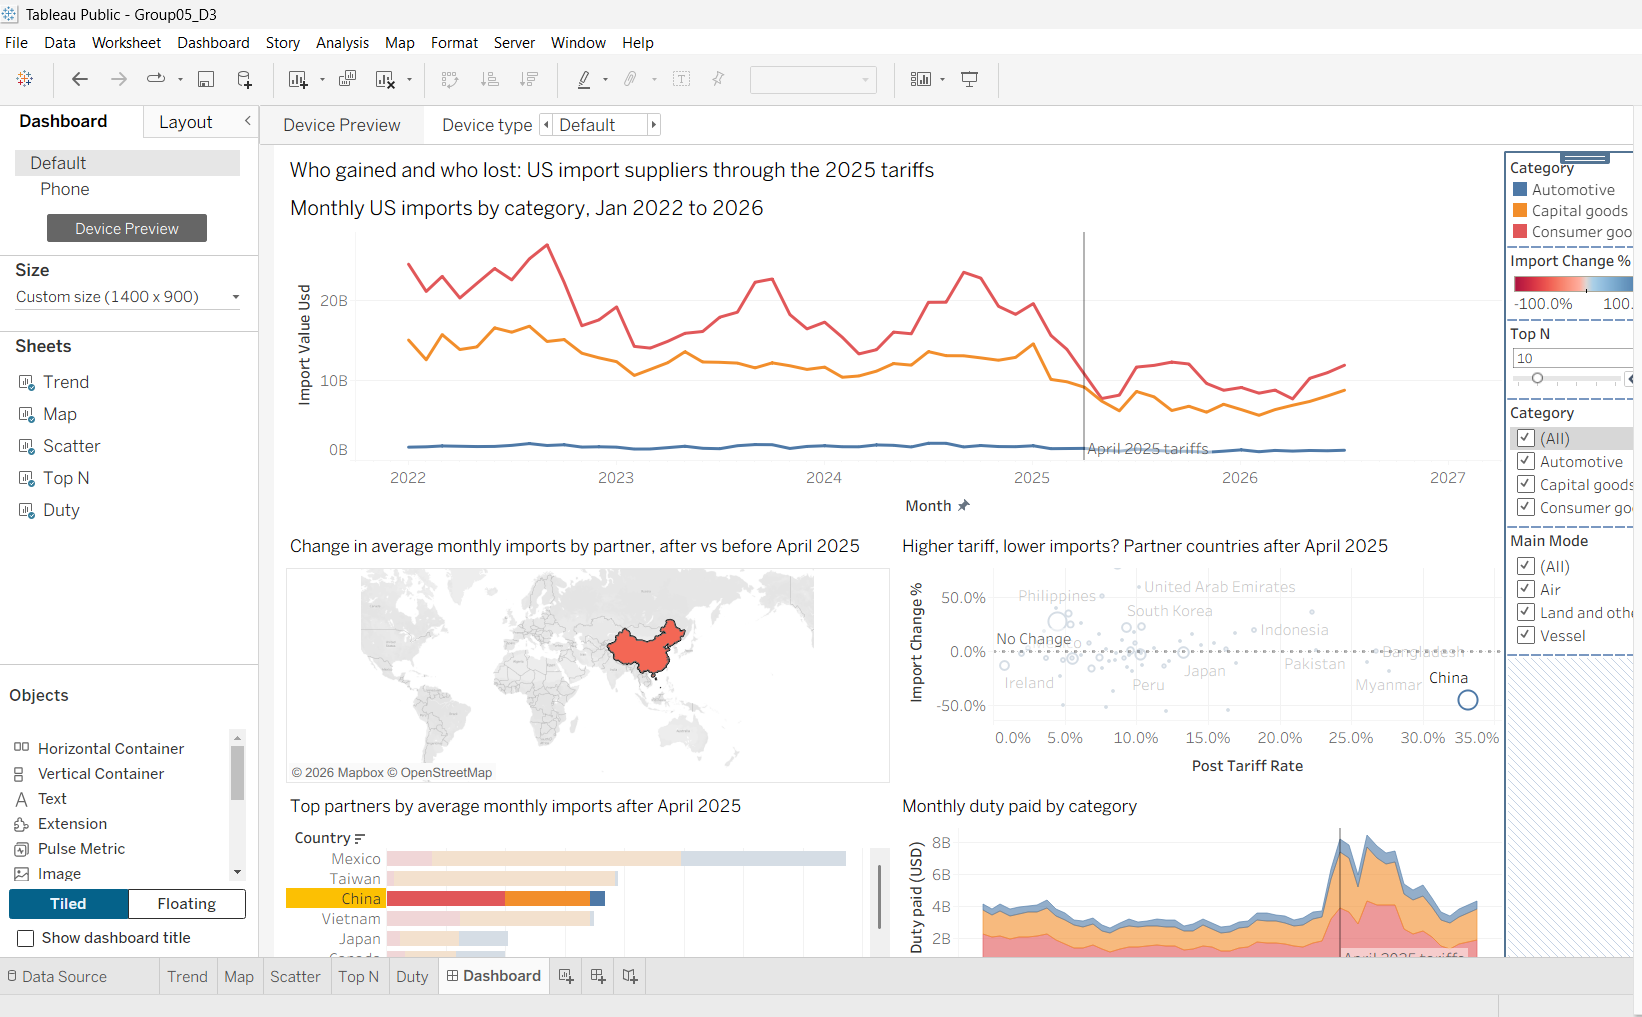

The page's visual inventory and layout, read from the dashboard file:
{"tool":"tableau","page":{"name":"Dashboard","canvas":[1400,900],"ordinal":0},"visuals":[{"type":"title","box":[8,8,1224,39]},{"type":"legend","title":"Trend","param":"[federated.18gt4sf0fpw86b1c7o02n16nllmp].[none:category:nk]","box":[1232,8,160,109]},{"type":"worksheet","title":"Trend","mark":"Automatic","rows":["import_value_usd"],"cols":["month"],"box":[8,47,1224,338]},{"type":"legend","title":"Map","param":"[federated.18gt4sf0fpw86b1c7o02n16nllmp].[usr:Calculation_0940693316509699:qk]","box":[1232,117,160,81]},{"type":"parameter","param":"[Parameters].[Parameter 0940693338406919]","box":[1232,198,160,83]},{"type":"filter","title":"Trend","param":"[federated.18gt4sf0fpw86b1c7o02n16nllmp].[none:category:nk]","box":[1232,281,160,148]},{"type":"worksheet","title":"Map","mark":"Multipolygon","box":[8,385,612,258]},{"type":"worksheet","title":"Scatter","mark":"Automatic","rows":["Calculation_0940693316509699"],"cols":["Calculation_0940693316628484"],"box":[620,385,612,258]},{"type":"filter","title":"Trend","param":"[federated.18gt4sf0fpw86b1c7o02n16nllmp].[none:main_mode:nk]","box":[1232,429,160,148]},{"type":"worksheet","title":"Top N","mark":"Automatic","rows":["country"],"cols":["Calculation_0940693316362242"],"box":[8,643,612,249]},{"type":"worksheet","title":"Duty","mark":"Area","rows":["calculated_duty_usd"],"cols":["month"],"box":[620,643,612,249]}]}

Visuals, with their boxes on the page's 1400x900 design canvas (x1, y1, x2, y2). These are canvas units, not pixel positions in the 1642x1017 screenshot, which may show the page scaled, cropped or inside an application window:
title: BBox(8, 8, 1232, 47)
"Trend" legend: BBox(1232, 8, 1392, 117)
"Trend" worksheet: BBox(8, 47, 1232, 385)
"Map" legend: BBox(1232, 117, 1392, 198)
parameter: BBox(1232, 198, 1392, 281)
"Trend" filter: BBox(1232, 281, 1392, 429)
"Map" worksheet (Multipolygon marks): BBox(8, 385, 620, 643)
"Scatter" worksheet: BBox(620, 385, 1232, 643)
"Trend" filter: BBox(1232, 429, 1392, 577)
"Top N" worksheet: BBox(8, 643, 620, 892)
"Duty" worksheet (Area marks): BBox(620, 643, 1232, 892)
